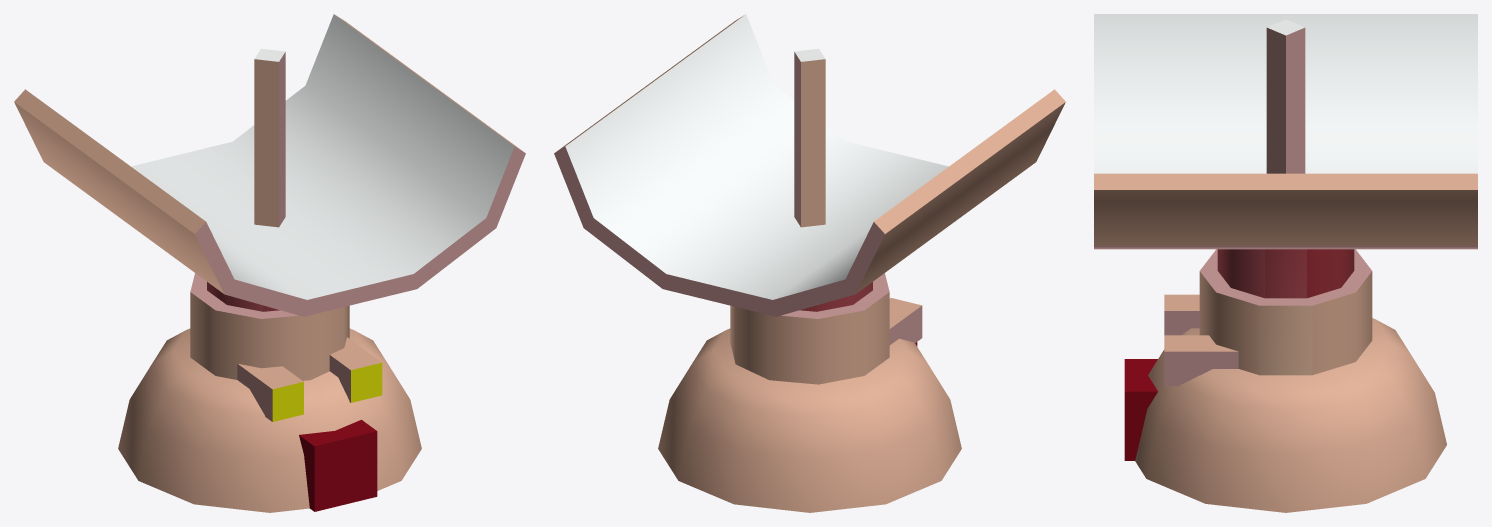
File: Lab.WhiteNova.Snow.glb
3 renders of one model, left to right at view 1: azimuth 30°, elevation 25°; view 2: azimuth 150°, elevation 25°; view 3: azimuth 270°, elevation 25°, orthographic. The views are drawn at different scales.
Parts seen in each view (by area): view 1: Lab.WhiteNova.Snow; view 2: Lab.WhiteNova.Snow; view 3: Lab.WhiteNova.Snow.
Part boxes in pixels (<box>): Lab.WhiteNova.Snow: <box>14,14,525,512</box>; Lab.WhiteNova.Snow: <box>554,14,1065,512</box>; Lab.WhiteNova.Snow: <box>1094,14,1477,512</box>.
Bounding box in the file's own units: 2.11 × 2.41 × 2.
Materials: 2 (1 with a texture image).
